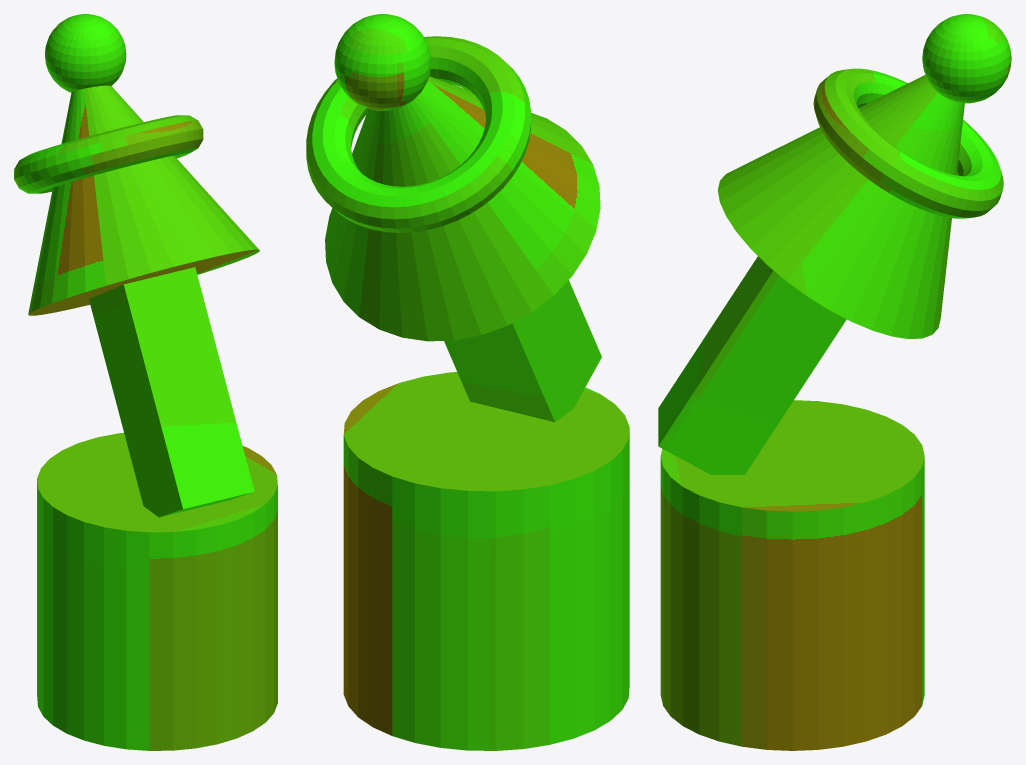
Rendered from statue2.obj.
3 renders of one model, left to right at view 1: azimuth 30°, elevation 25°; view 2: azimuth 150°, elevation 25°; view 3: azimuth 270°, elevation 25°, orthographic. The views are drawn at different scales.
Visible parts, largest first — view 1: Cylinder; view 2: Cylinder; view 3: Cylinder.
Part boxes in pixels (x1,y1,x2,y2): Cylinder: (14,14,277,750); Cylinder: (306,14,629,750); Cylinder: (658,14,1011,750).
Bounding box in the file's own units: 2.03 × 5.69 × 2.68.
Materials: 1 (1 with a texture image).
